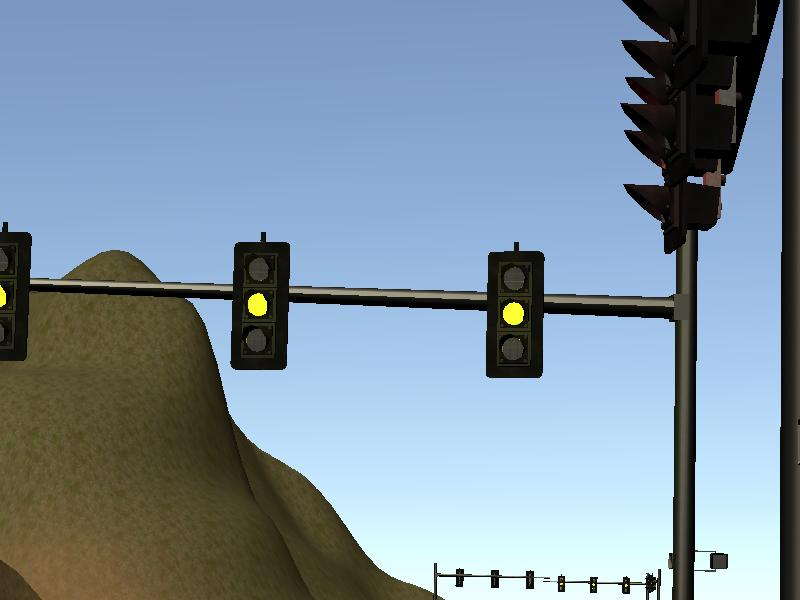not_red: (488, 249, 542, 377), (235, 242, 285, 369), (1, 233, 24, 360)
